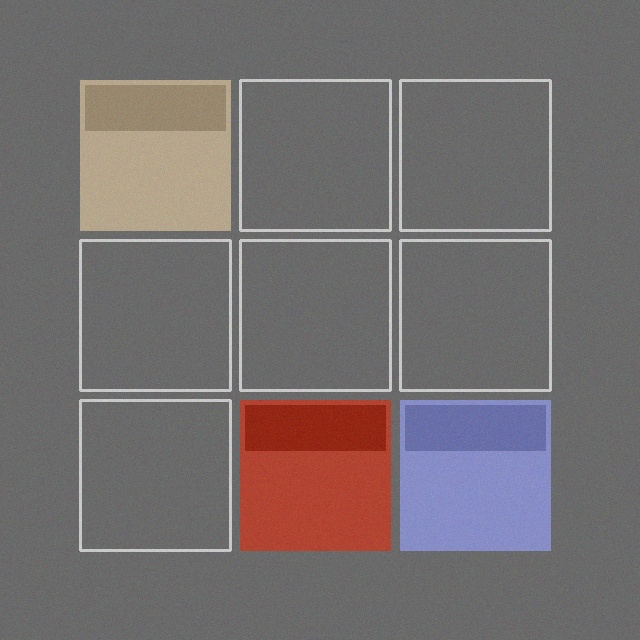space-empty: (240, 80, 390, 230), (400, 80, 550, 230), (80, 240, 230, 390), (240, 240, 390, 390), (400, 240, 550, 390), (80, 400, 230, 550)
space-occupied: (80, 80, 230, 230), (240, 400, 390, 550), (400, 400, 550, 550)
